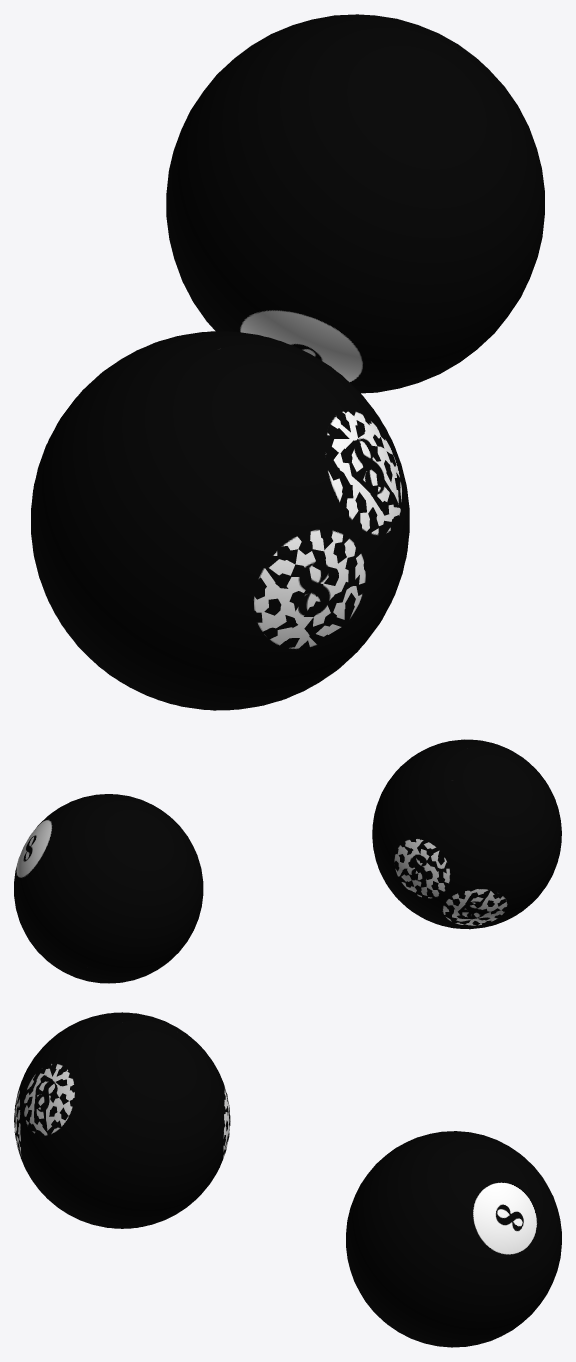
File: pool.dae
3 renders of one model, top to bottom at view 1: azimuth 30°, elevation 25°; view 2: azimuth 150°, elevation 25°; view 3: azimuth 270°, elevation 25°, orthographic. The views are drawn at different scales.
Visible parts, largest first — view 1: ball3, ball1, ball2; view 2: ball3, ball2, ball1; view 3: ball3, ball1, ball2.
Boxes of the visible parts, box(x1,y1,x2,y2) form: ball3: box(166, 14, 544, 393); ball1: box(31, 331, 409, 710); ball2: box(31, 331, 409, 710); ball3: box(14, 794, 203, 983); ball2: box(372, 739, 561, 928); ball1: box(372, 739, 561, 929); ball3: box(346, 1131, 561, 1347); ball1: box(14, 1012, 230, 1228); ball2: box(14, 1012, 230, 1228).
Bounding box in the file's own units: 225 × 248 × 97.9.
3 materials, 3 textured.
